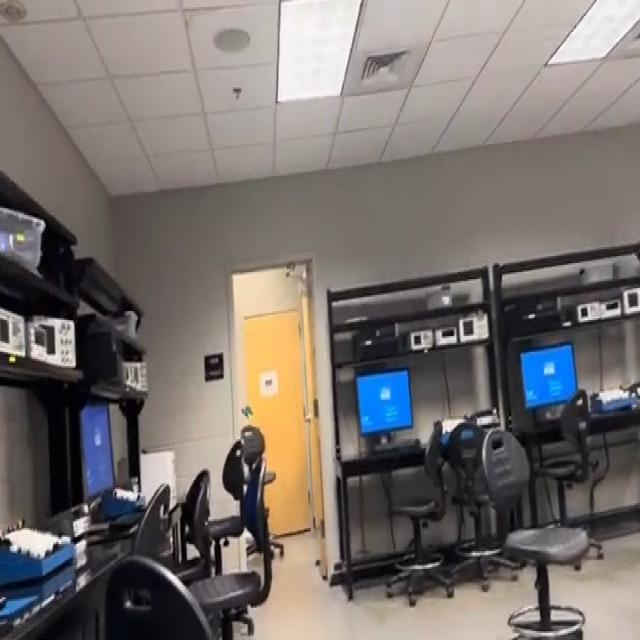drone: (233, 394, 260, 428)
